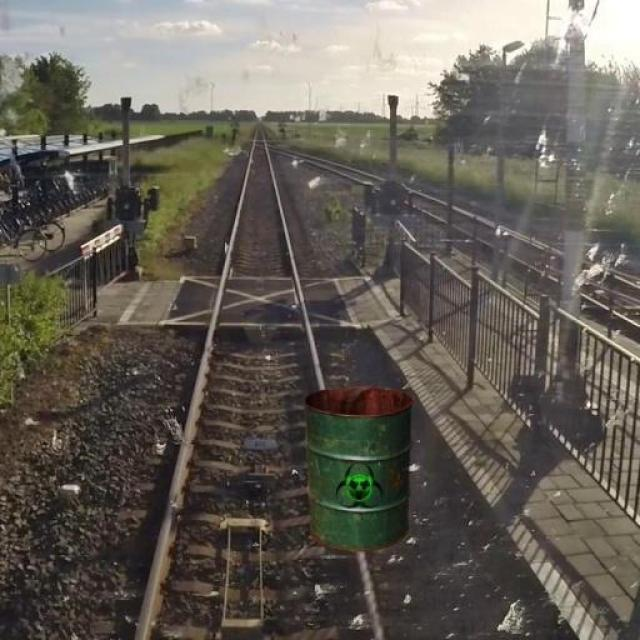Other_objects: (296, 381, 428, 558)
